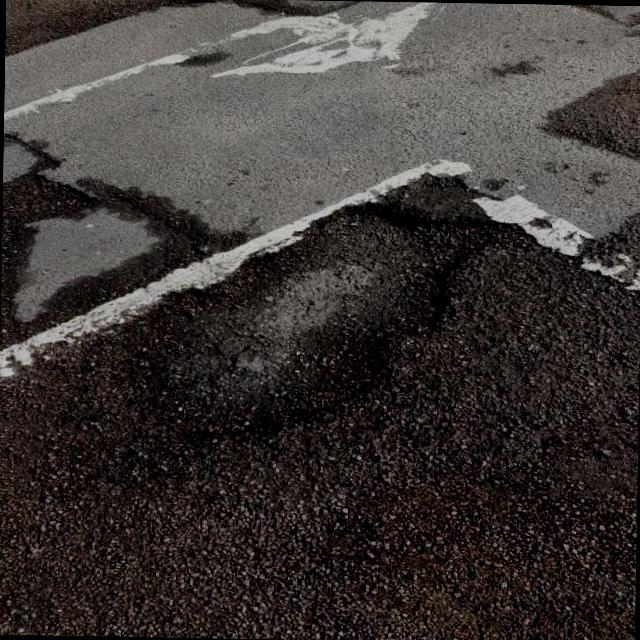pothole: (97, 189, 513, 452)
